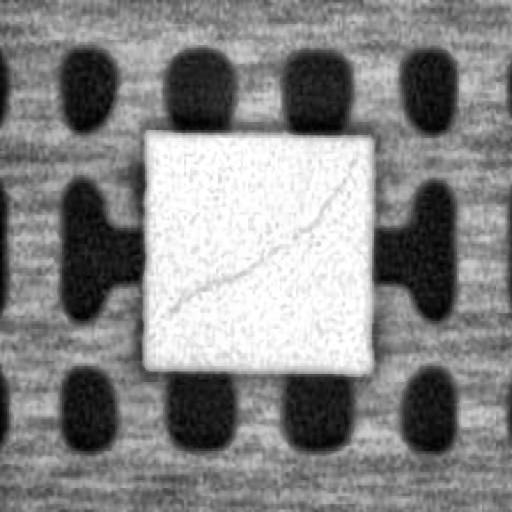DIE_CRACK: (166, 156, 350, 302)
